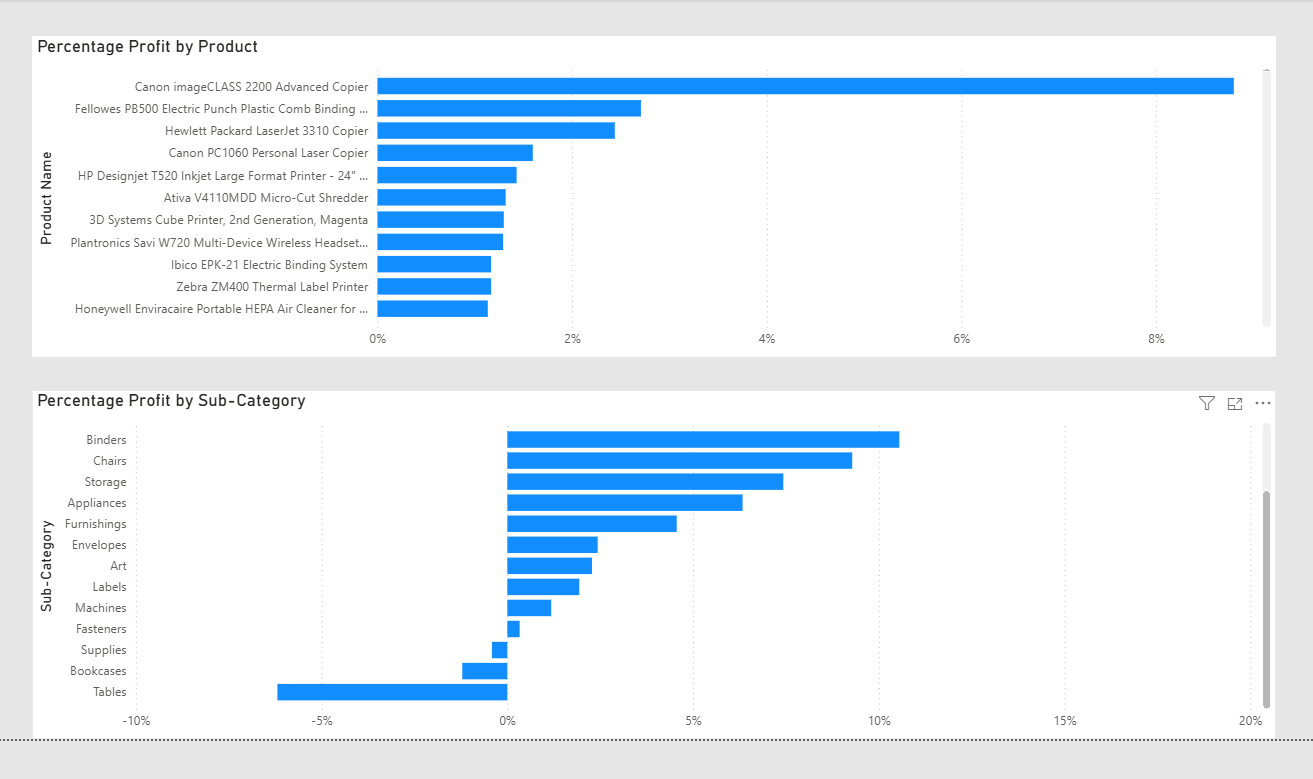

The dashboard page shown, as its layout file describes it:
{"tool":"powerbi","page":{"name":"Percentage Profits","canvas":[1280,720],"ordinal":5},"visuals":[{"type":"barChart","title":"Percentage Profit by Product","fields":{"Y":["FactOrders.Profit Unit"],"Category":["DimProduct.Product Name"]},"box":[33.1,36,1210,312.2],"z":0},{"type":"barChart","title":"Percentage Profit by Sub-Category","fields":{"Y":["FactOrders.Profit Unit"],"Category":["DimCategory.Sub-Category"]},"box":[33.1,380.3,1210,339.5],"z":1}]}

Visuals, with their boxes on the page's 1280x720 design canvas (x1, y1, x2, y2). These are canvas units, not pixel positions in the 1313x779 screenshot, which may show the page scaled, cropped or inside an application window:
"Percentage Profit by Product" barChart: {"left": 33, "top": 36, "right": 1243, "bottom": 348}
"Percentage Profit by Sub-Category" barChart: {"left": 33, "top": 380, "right": 1243, "bottom": 720}
